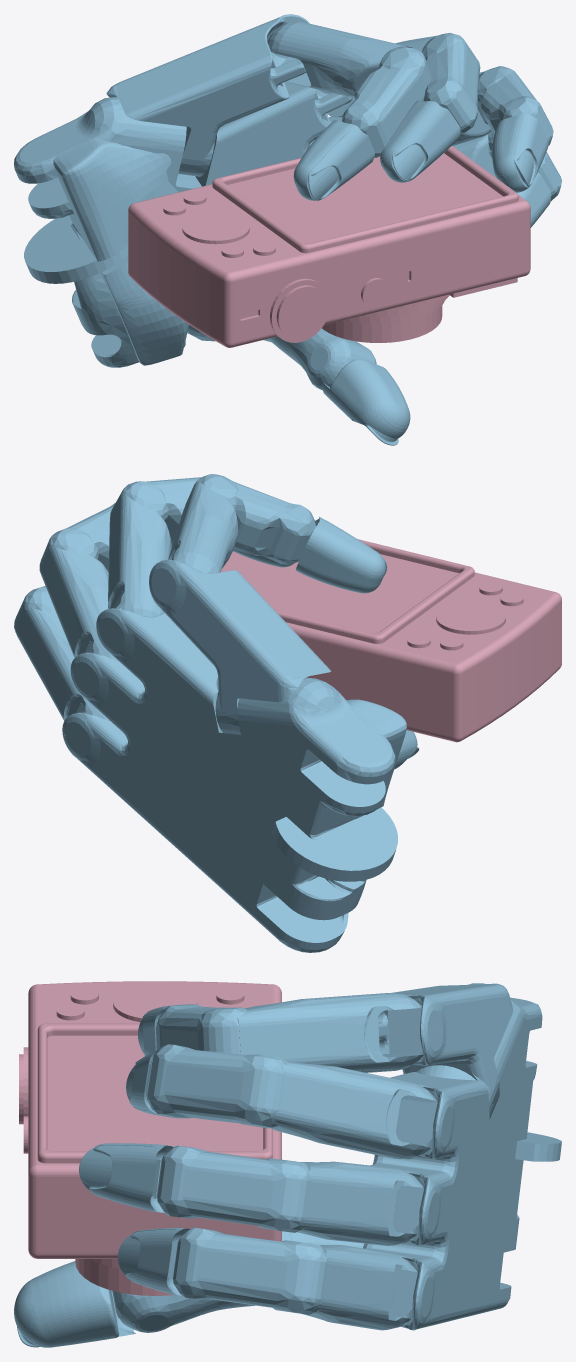
3 views of the same model, one above another, from view 1: azimuth 30°, elevation 25°; view 2: azimuth 150°, elevation 25°; view 3: azimuth 270°, elevation 25° (orthographic). The views are drawn at different scales.
Visible parts, largest first — view 1: world; view 2: world; view 3: world.
Part boxes in pixels (bbox=[...]): world: bbox=[14, 14, 561, 445]; world: bbox=[14, 474, 561, 952]; world: bbox=[14, 981, 561, 1347].
Bounding box in the file's own units: 0.1624 × 0.1177 × 0.1398.
